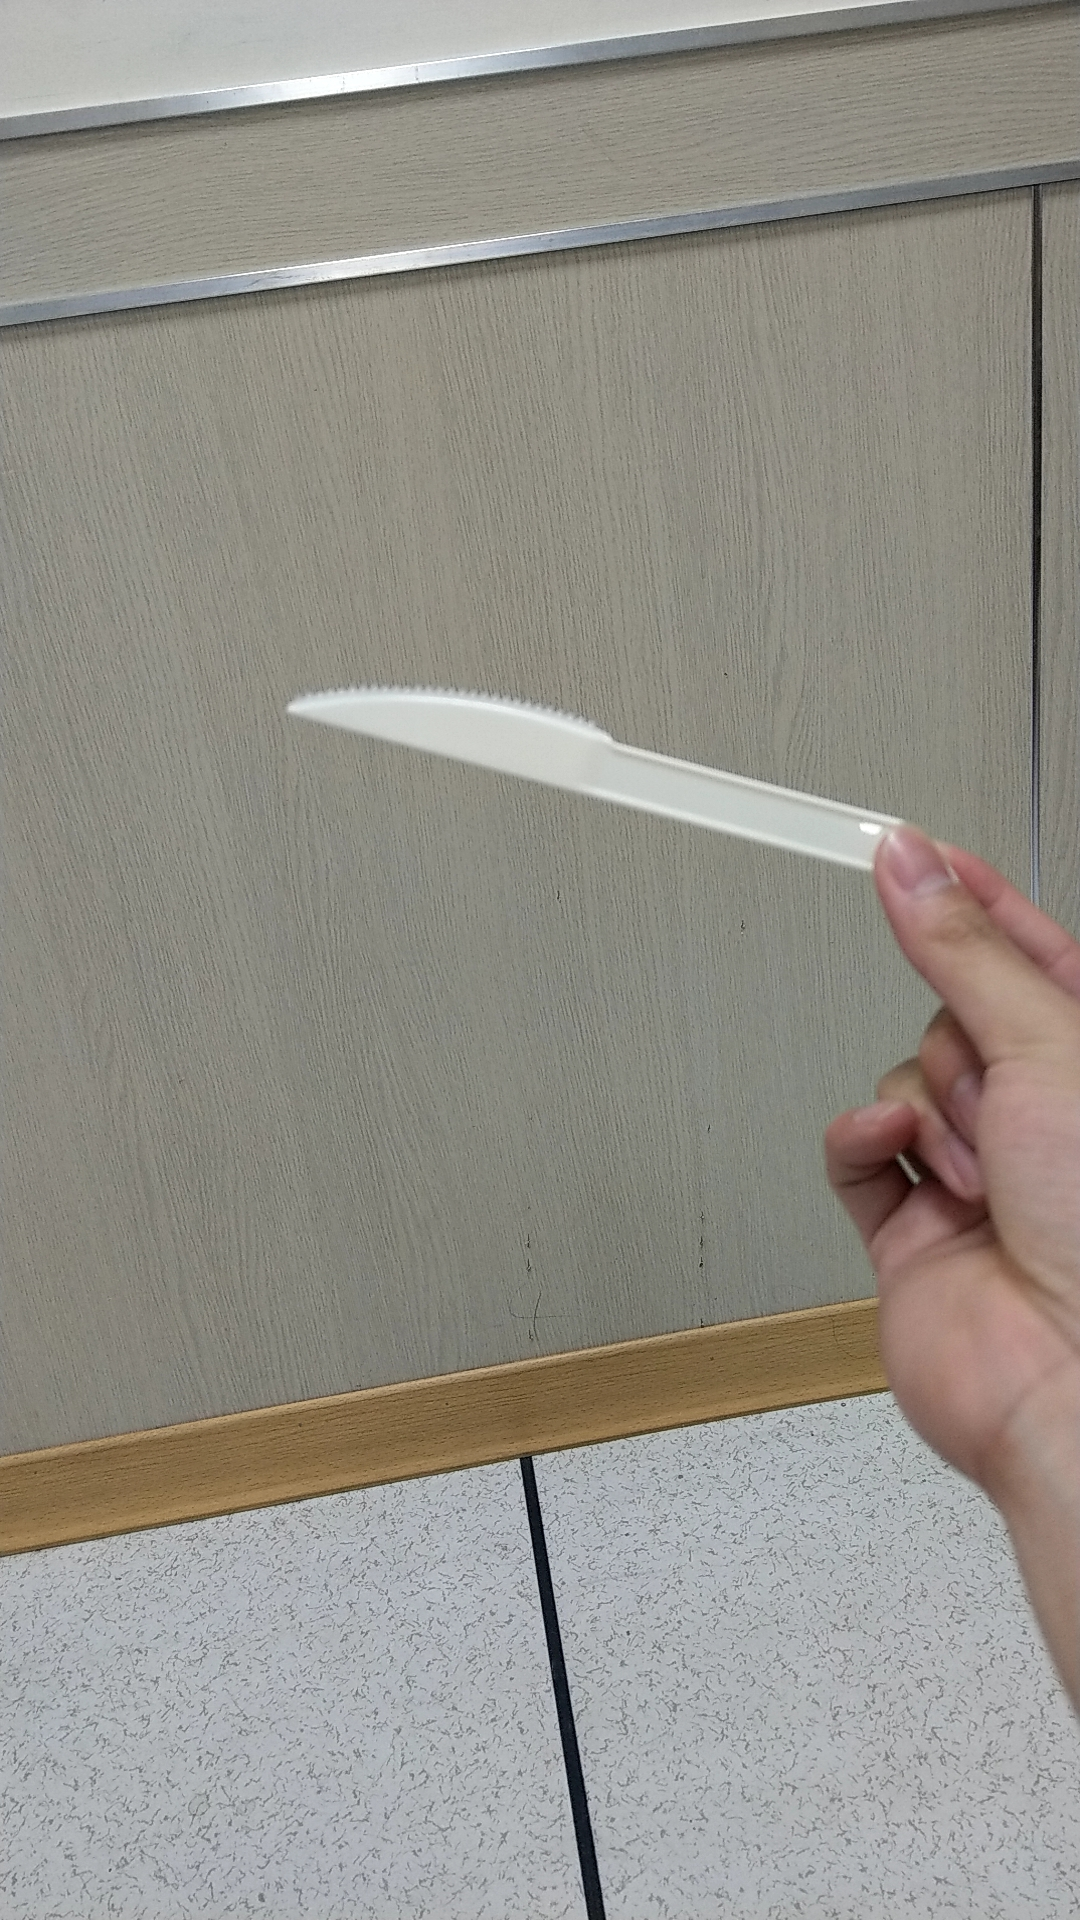knife: (276, 618, 893, 905)
